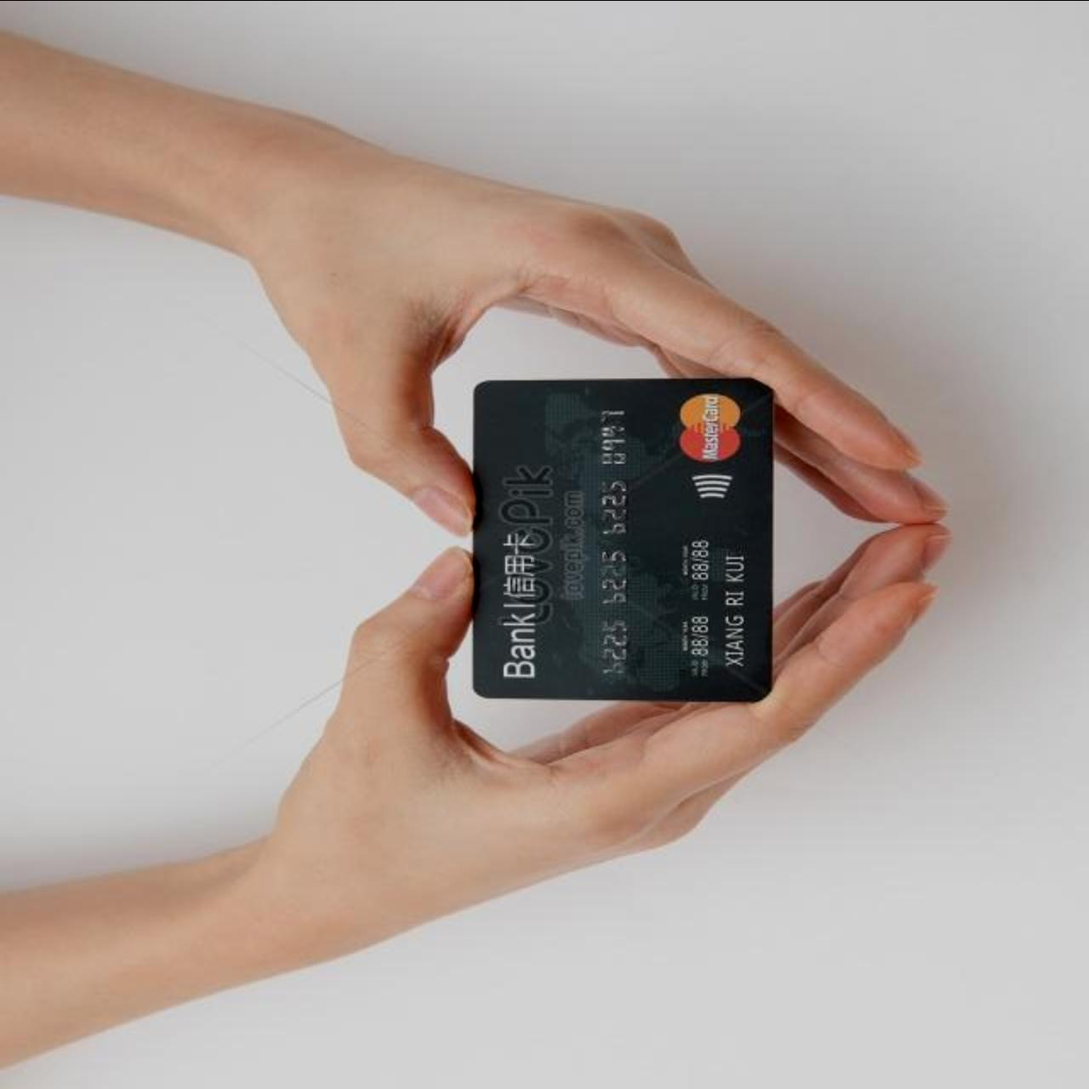credit_card: (471, 376, 774, 699)
